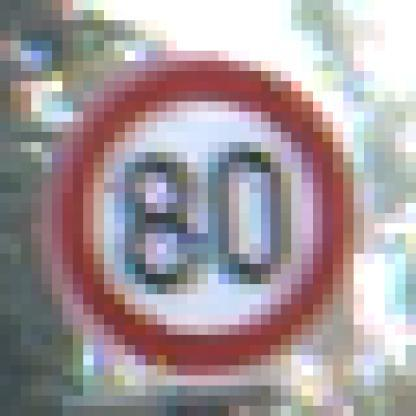Speed Limit -80-: (84, 65, 341, 350)
